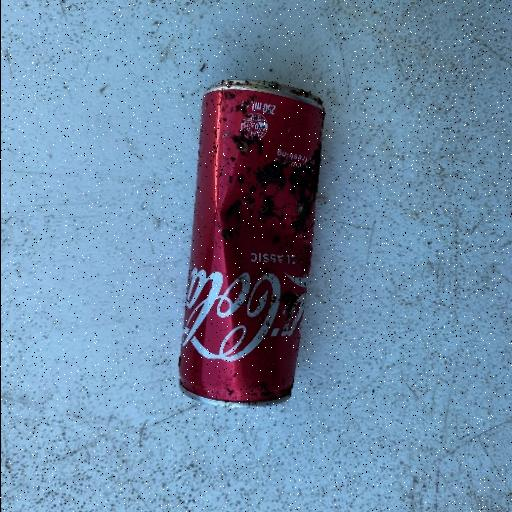Metal: (176, 78, 328, 408)
